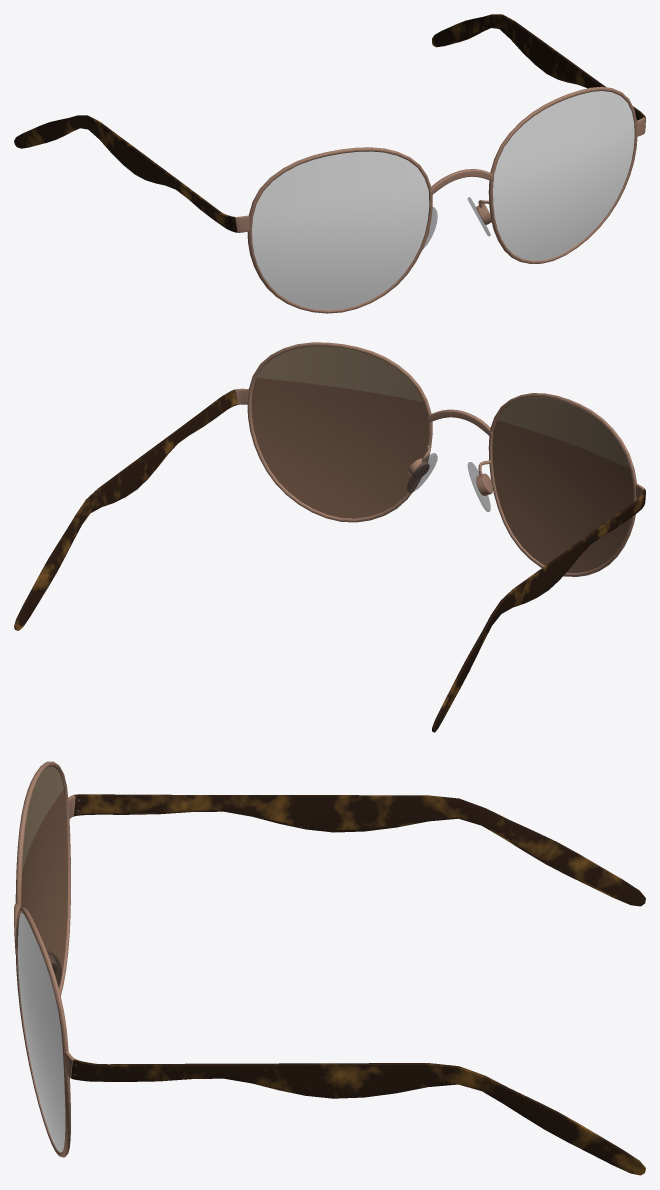
File: tokyoGlasses.glb
The picture shows the model from 3 angles, top to bottom: view 1: azimuth 30°, elevation 25°; view 2: azimuth 150°, elevation 25°; view 3: azimuth 270°, elevation 25°; orthographic projection. The views are drawn at different scales.
Visible parts, largest first — view 1: tokyoGlasses; view 2: tokyoGlasses; view 3: tokyoGlasses.
Part boxes in pixels (x1,y1,x2,y2): tokyoGlasses: (14,14,645,313); tokyoGlasses: (14,342,645,732); tokyoGlasses: (14,761,645,1175).
Size of the model in its own units: 0.2294 by 0.0887 by 0.2253.
1 material, 1 textured.
